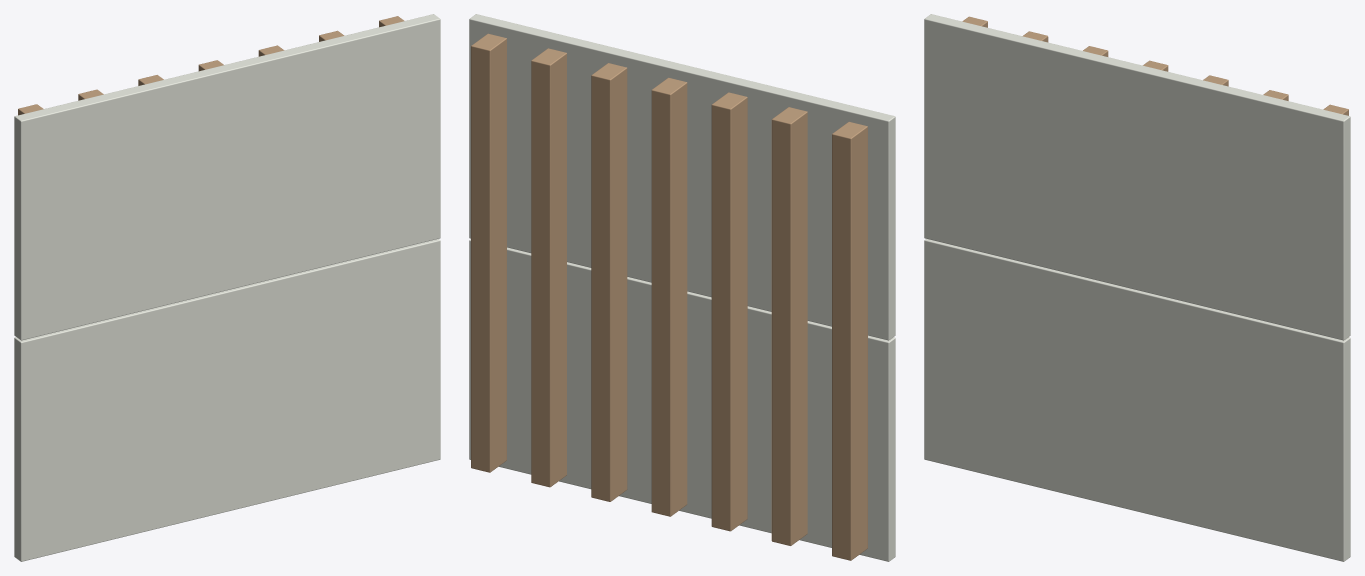
The model's file is Drywall2.fbx.
The picture shows the model from 3 angles, left to right: view 1: azimuth 30°, elevation 25°; view 2: azimuth 150°, elevation 25°; view 3: azimuth 330°, elevation 25°; orthographic projection.
Visible parts, largest first — view 1: Drywall2, Cube.043; view 2: Cube.043, Drywall2; view 3: Drywall2, Cube.043.
Part boxes in pixels (x1,y1,x2,y2): Drywall2: (14,14,440,561); Cube.043: (18,16,404,115); Cube.043: (471,33,867,560); Drywall2: (469,14,895,561); Drywall2: (924,14,1350,561); Cube.043: (962,16,1348,115).
Size of the model in its own units: 294 by 295 by 29.06.
